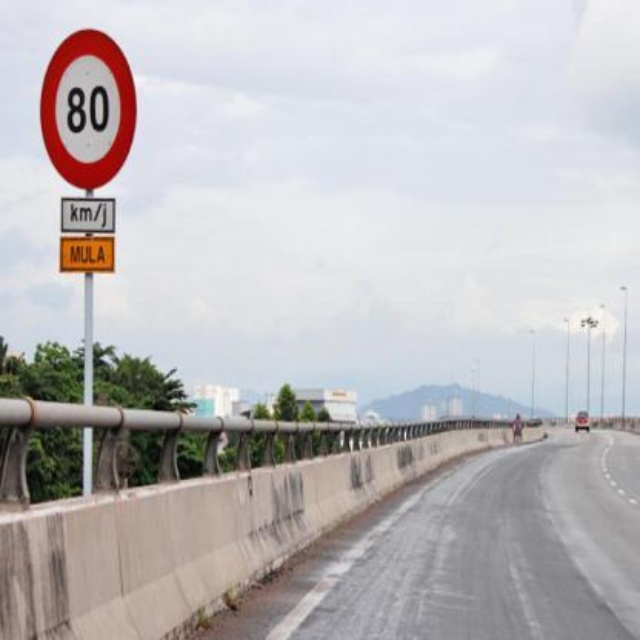Tốc độ tối đa cho phép 80km/h: (41, 32, 133, 188)
